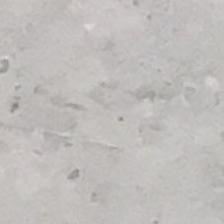Non_Crack: (22, 28, 210, 193)
